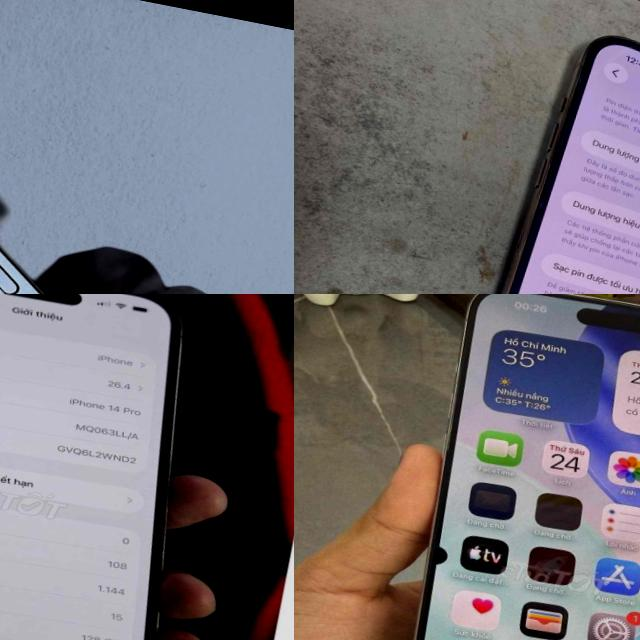gen_12_13: (439, 16, 640, 294)
gen_14: (0, 294, 240, 640), (0, 77, 294, 294)
gen_15: (352, 294, 640, 640)
